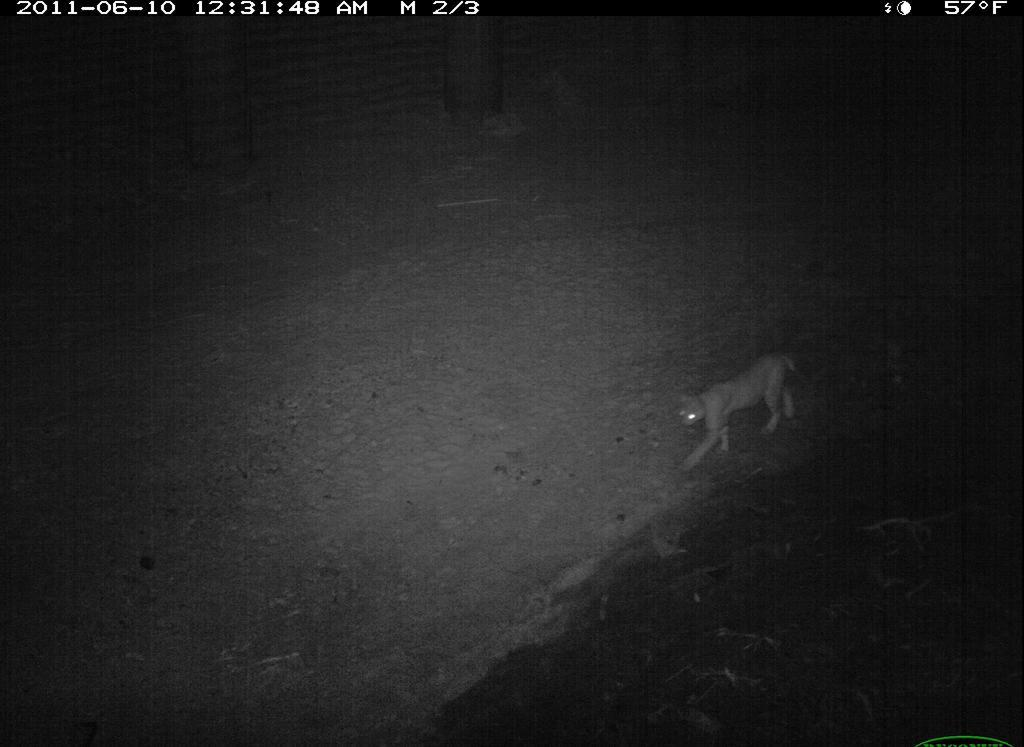bobcat: (670, 341, 812, 477)
